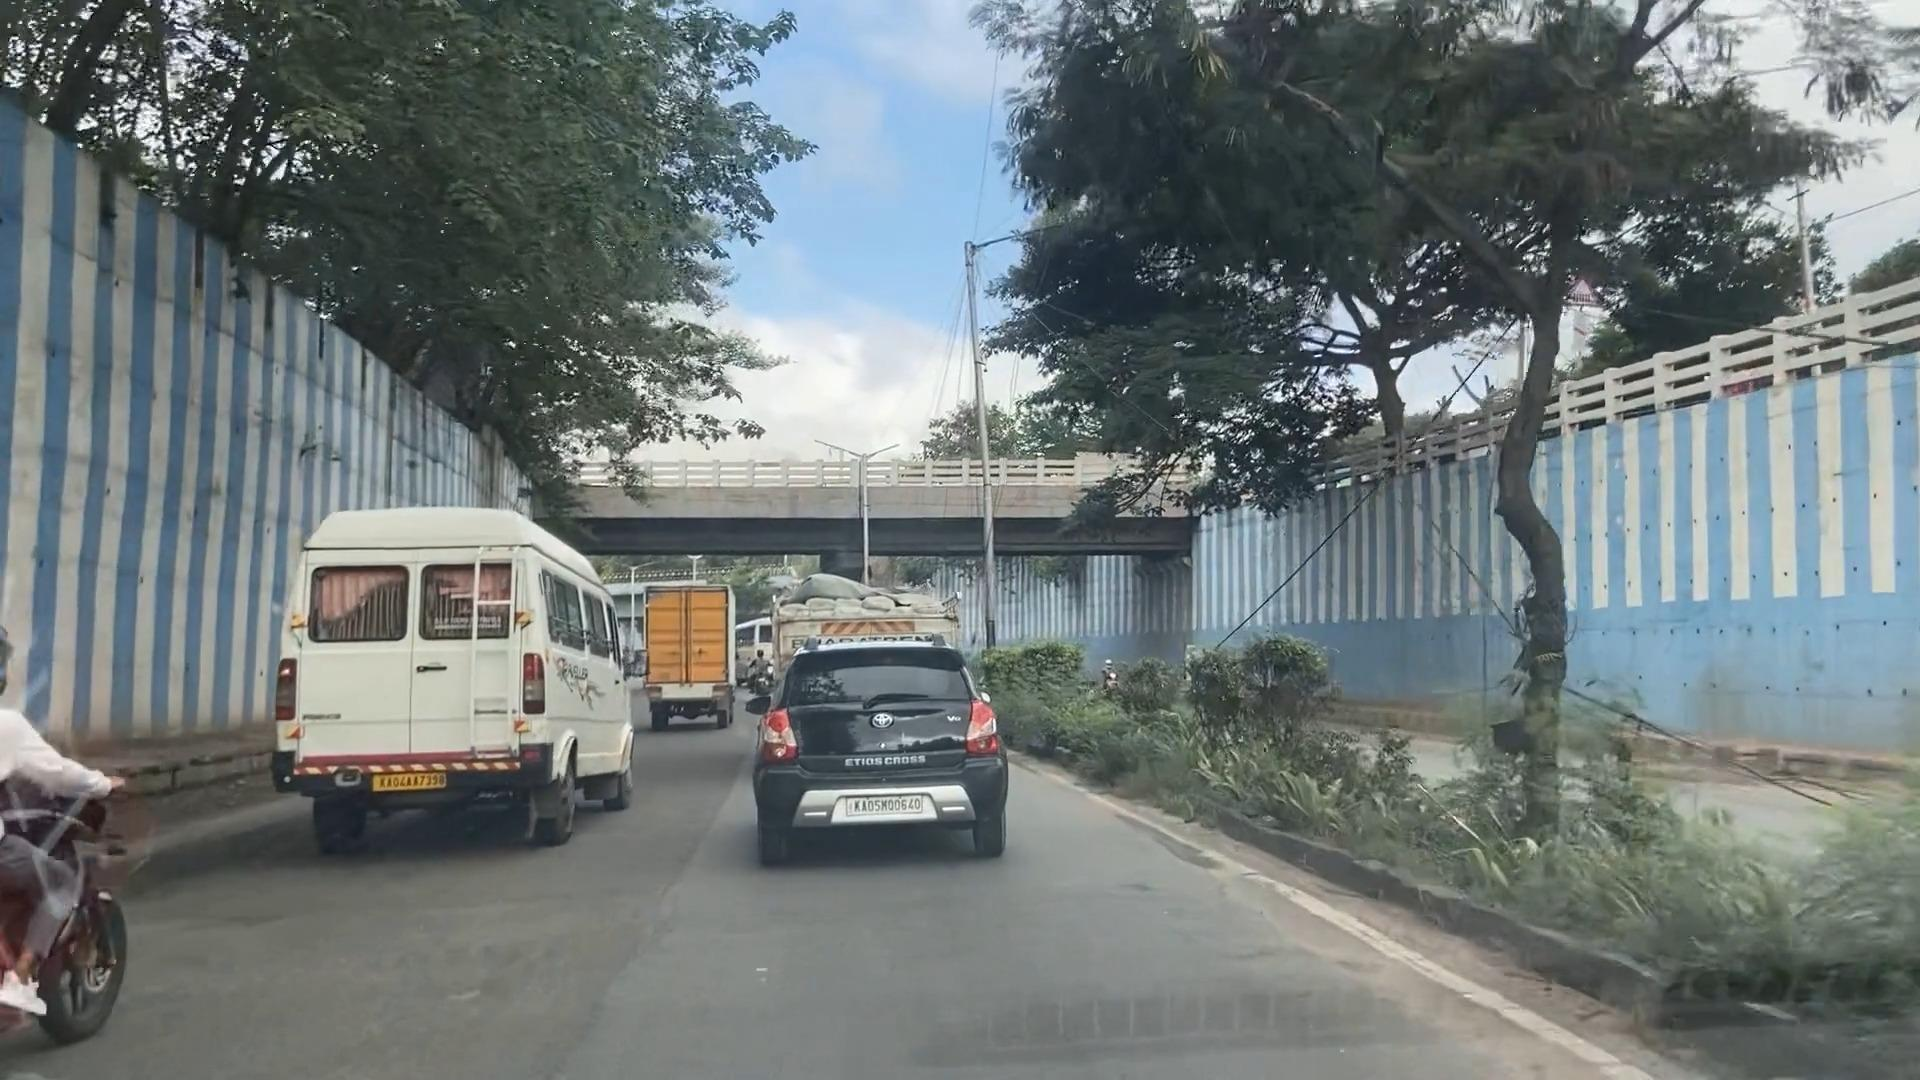HMV: (266, 510, 632, 855), (637, 588, 727, 724)
LMV: (757, 642, 1009, 862)
